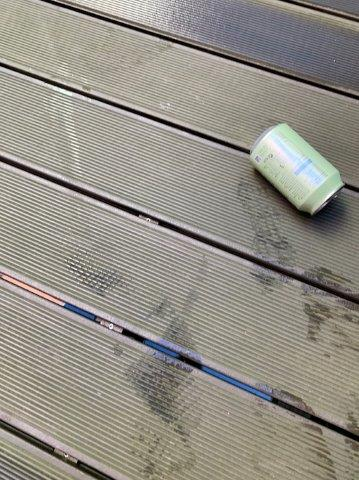kaleng: (251, 125, 343, 215)
